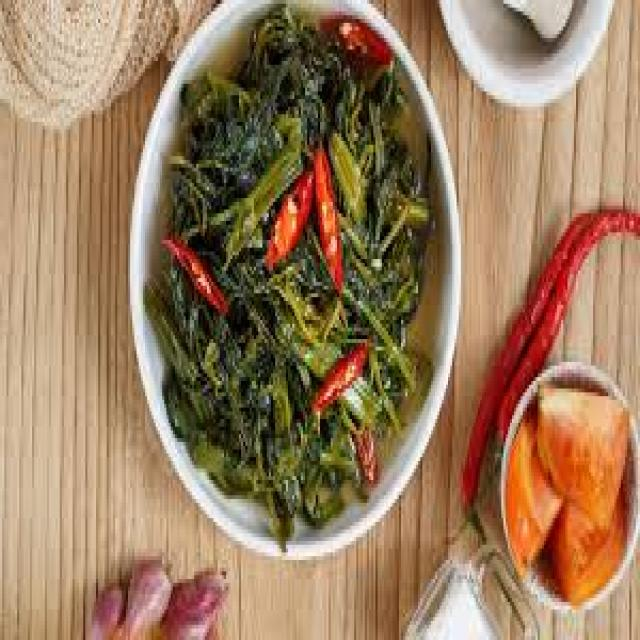tumis kangkung: (140, 14, 440, 504)
